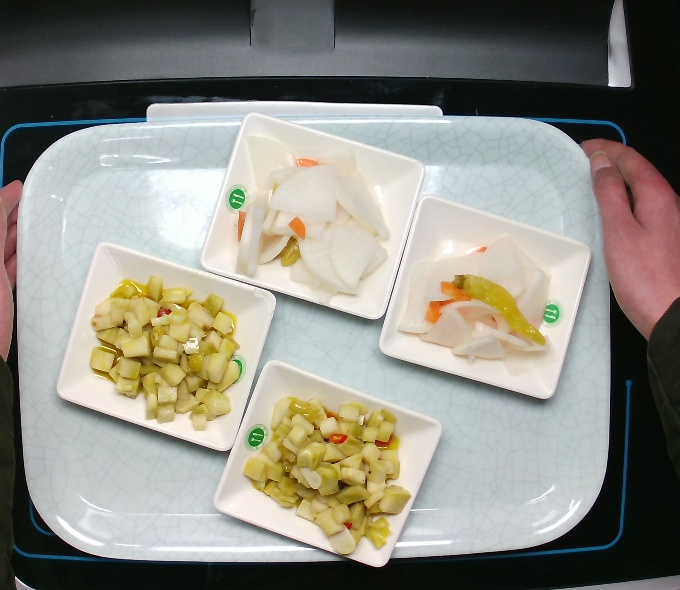wcq-LuLuoBo: (230, 129, 388, 303), (397, 232, 561, 382)
wcq-TangCuOu: (83, 266, 252, 437), (242, 393, 412, 559)
